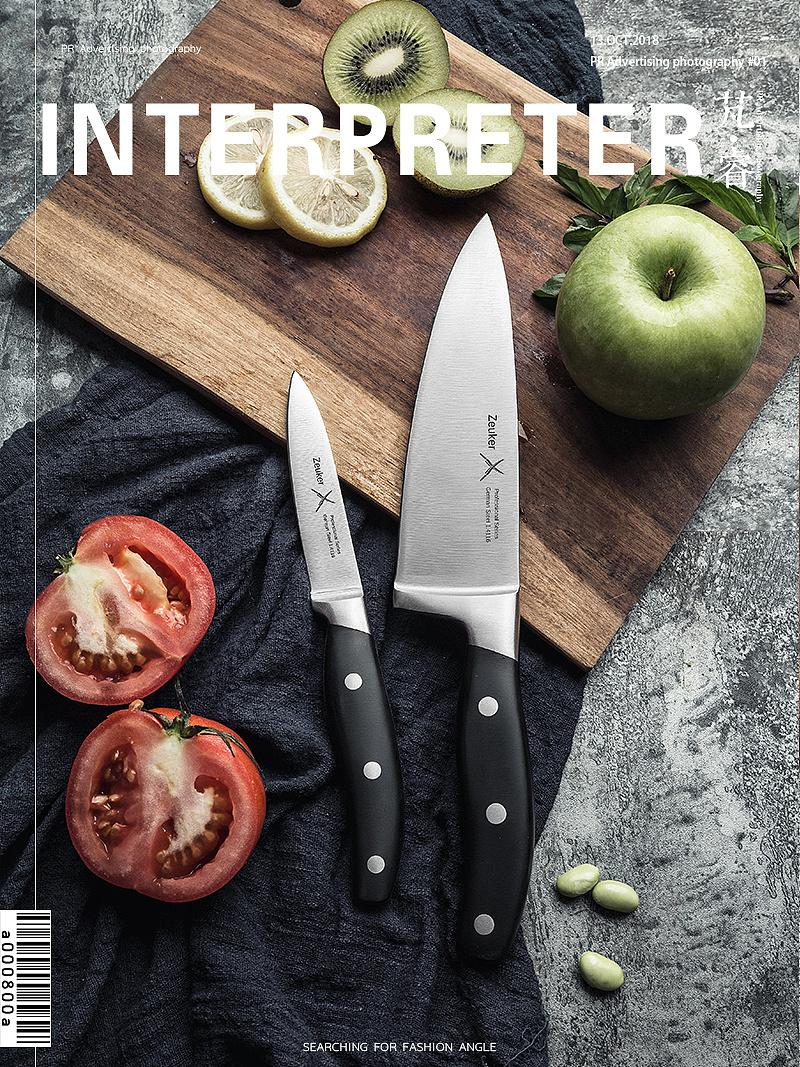knife: (273, 204, 555, 964)
